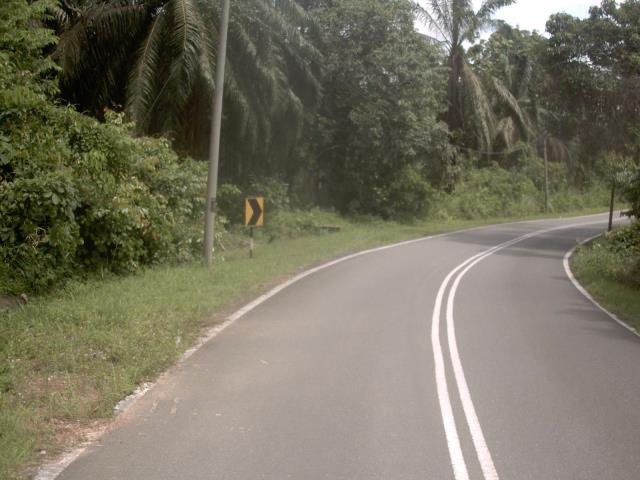traffic_sign: (237, 189, 270, 234)
